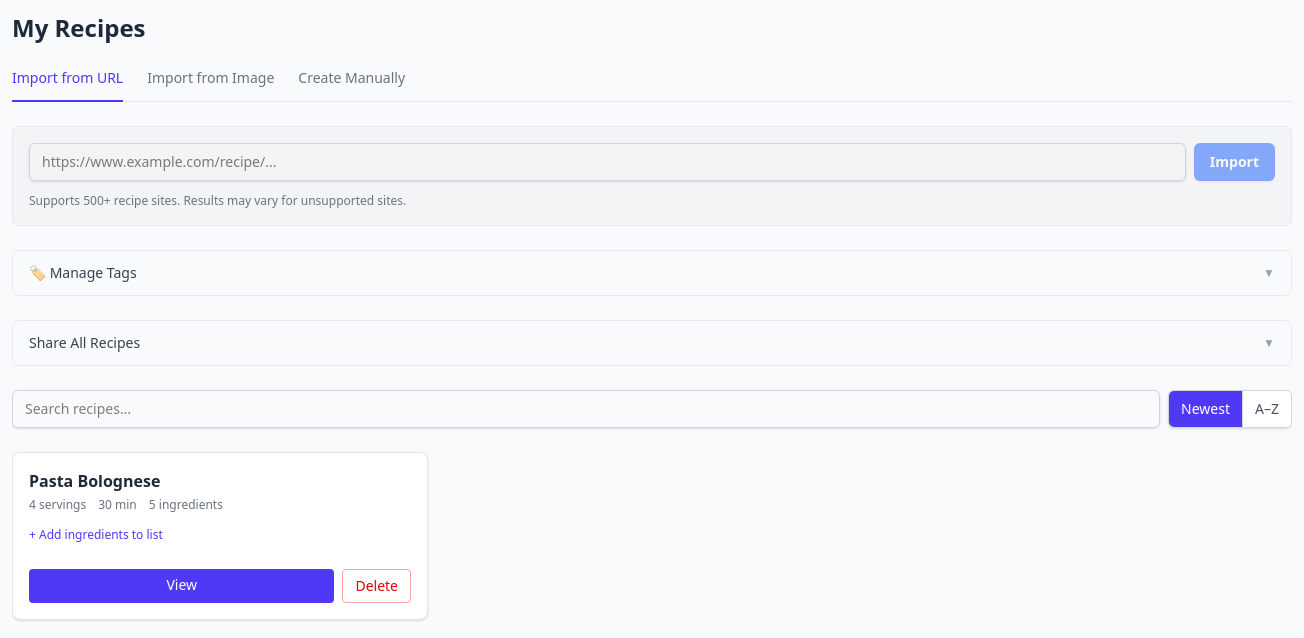
it: RecipesPage › shows list dropdown and Add to list button when lists exist
Expected: the heading "Pasta Bolognese" is shown, x1=29 y1=470 x2=160 y2=492
// Click "Add ingredients to list" button
Click the button "+ Add ingredients to list" at (96, 535), box x1=29 y1=527 x2=163 y2=543
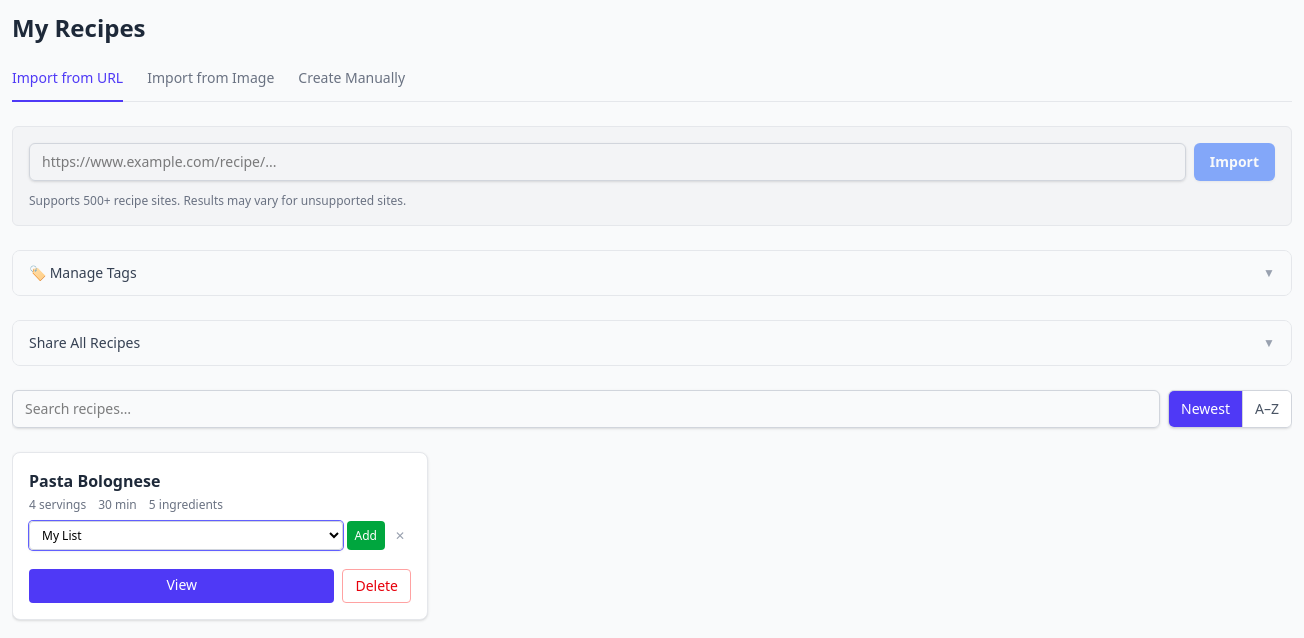
Expected: the button "Add" is shown, x1=346 y1=521 x2=385 y2=550
Expected: the dropdown is shown, x1=29 y1=521 x2=342 y2=550
